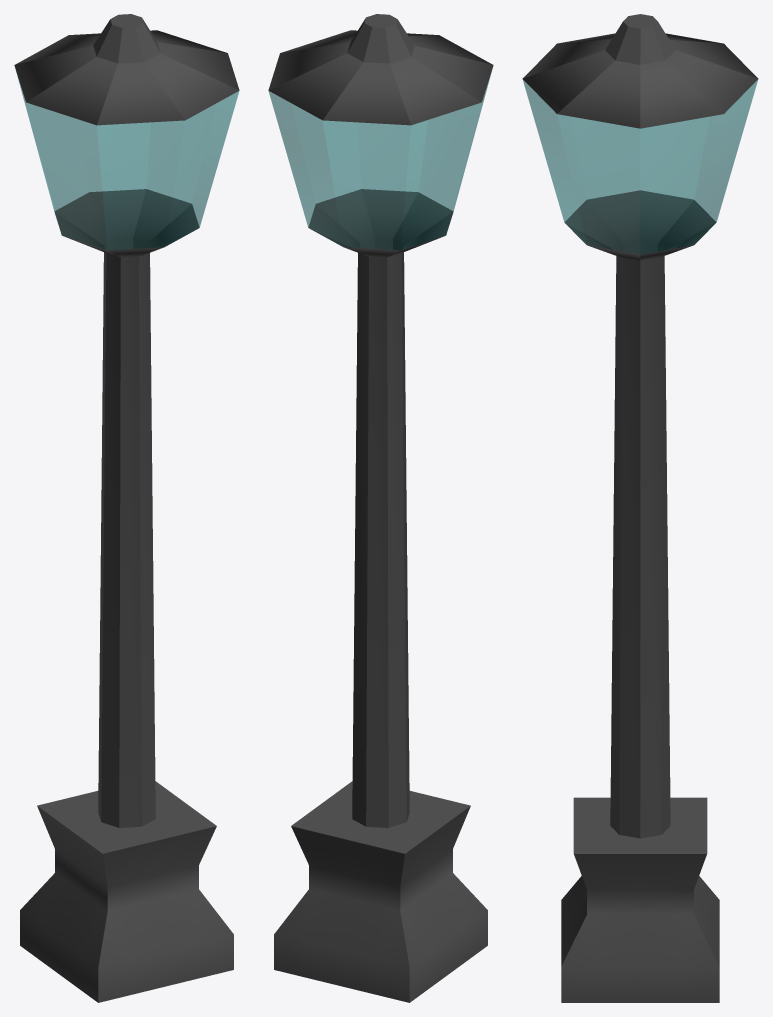
File: lamp_post.fbx
3 views of the same model, side by side, from view 1: azimuth 30°, elevation 25°; view 2: azimuth 150°, elevation 25°; view 3: azimuth 270°, elevation 25° (orthographic).
Visible parts, largest first — view 1: pCube2; view 2: pCube2; view 3: pCube2.
Boxes of the visible parts, x1,y1,x2,y2 form: pCube2: [14, 14, 239, 1002]; pCube2: [268, 14, 493, 1002]; pCube2: [522, 14, 758, 1002].
Size of the model in its own units: 1.49 by 6.6 by 1.49.
